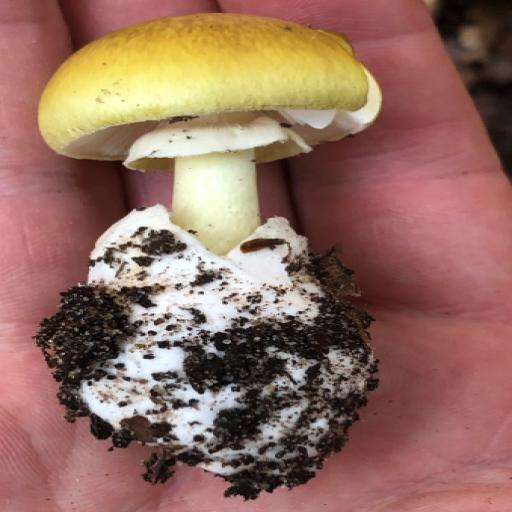mushroom: (38, 14, 380, 487)
